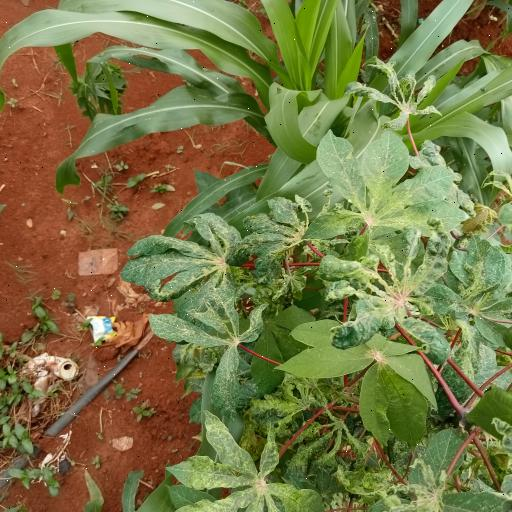Cassava_Mosaic: (314, 132, 468, 234), (327, 236, 455, 354), (154, 292, 266, 406), (126, 210, 242, 314), (171, 418, 291, 512)
